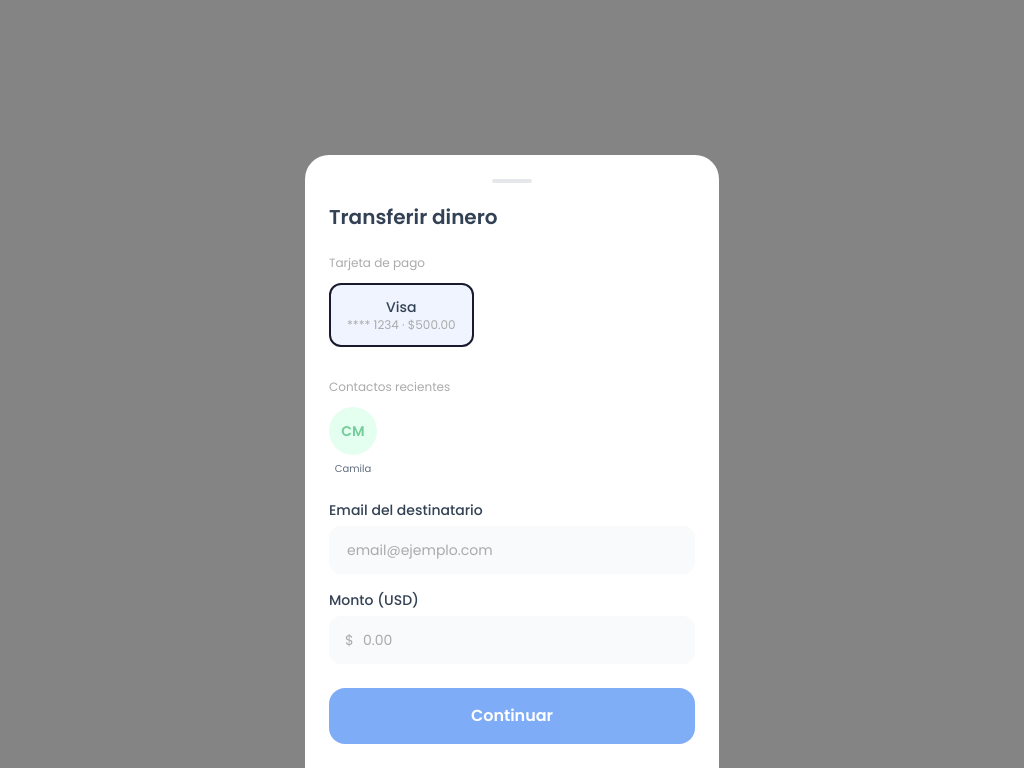
TransferModal › populates email field when contact is selected
Click the text "Camila": (353, 468) [335, 461, 371, 476]
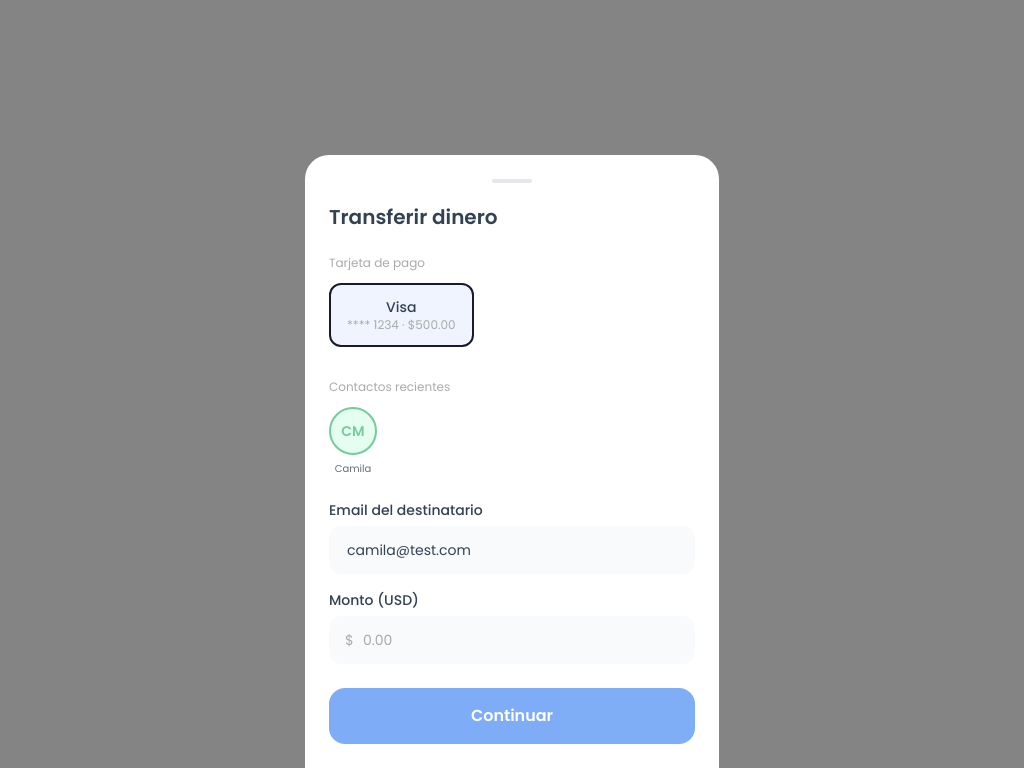
Now the field with placeholder "email@ejemplo.com" holds "camila@test.com", box [329, 526, 695, 574]
